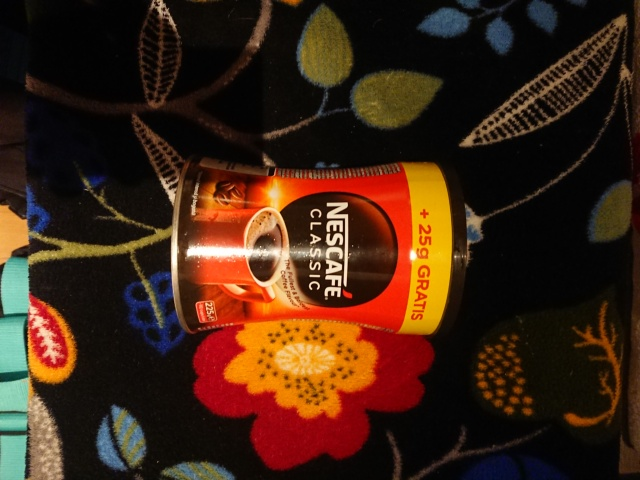Nescafe Classic 225g: (166, 151, 472, 344)
